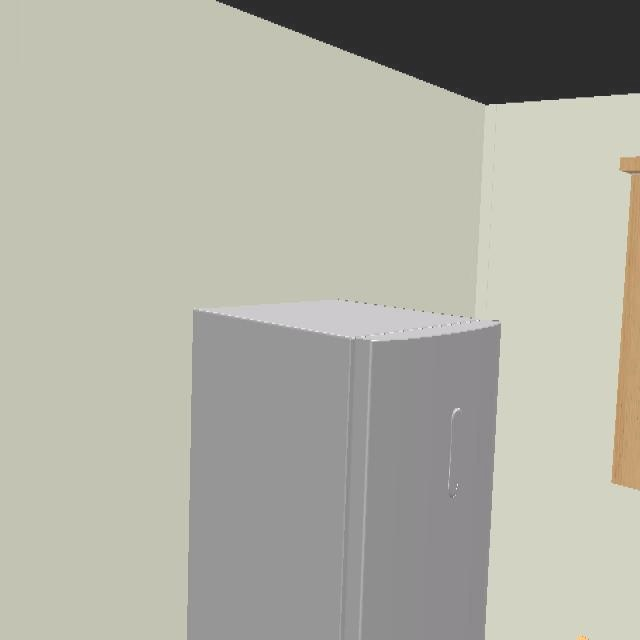fridge: (186, 302, 502, 640)
